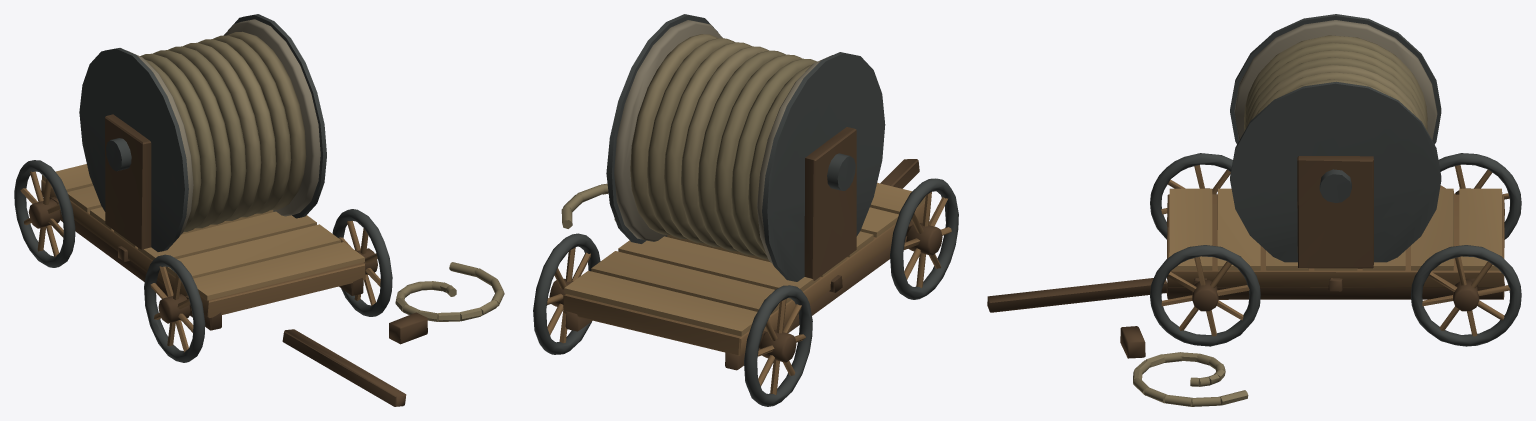
File: rope_drum_wagon_a_lod1.glb
3 views of the same model, side by side, from view 1: azimuth 30°, elevation 25°; view 2: azimuth 150°, elevation 25°; view 3: azimuth 270°, elevation 25° (orthographic). The views are drawn at different scales.
Parts seen in each view (by area): view 1: Surface.001; view 2: Surface.001; view 3: Surface.001.
Boxes of the visible parts, x1,y1,x2,y2 form: Surface.001: (14, 14, 504, 406); Surface.001: (533, 14, 958, 406); Surface.001: (987, 14, 1521, 406).
Size of the model in its own units: 7.86 by 5.74 by 11.06.
